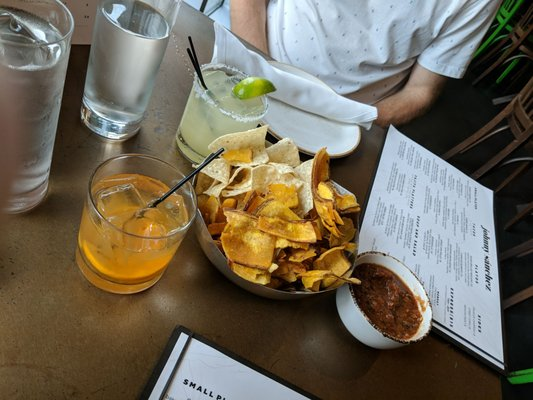salad: (140, 147, 225, 212)
sushi: (190, 142, 363, 301), (335, 252, 433, 351)
